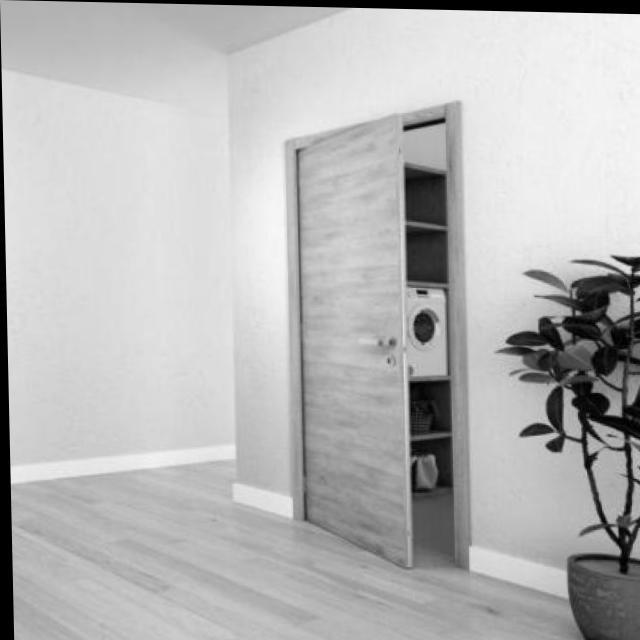door_handle: (344, 328, 400, 352)
